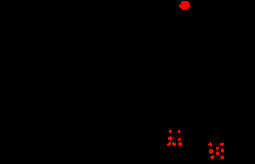Target: (179, 1, 190, 10), (168, 136, 173, 141), (209, 149, 214, 154), (167, 142, 171, 146), (172, 142, 176, 146), (178, 142, 182, 146), (208, 142, 212, 146), (210, 155, 214, 159), (220, 155, 224, 159), (221, 148, 224, 153), (220, 143, 224, 146), (216, 151, 219, 155), (169, 130, 172, 133), (178, 130, 181, 133), (178, 138, 181, 141), (216, 147, 219, 150)
